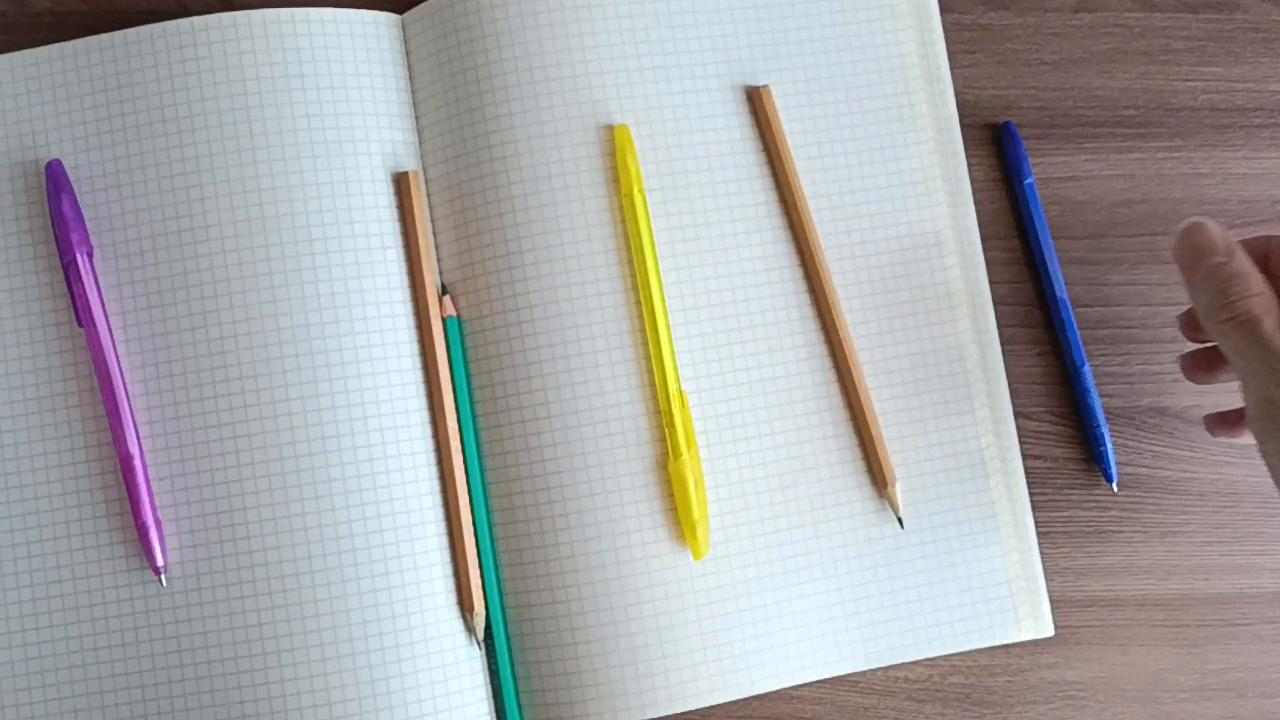pen: (39, 150, 171, 592), (607, 116, 715, 563), (997, 116, 1123, 497)
pencil: (747, 77, 906, 535), (387, 167, 488, 653), (441, 277, 524, 720)
